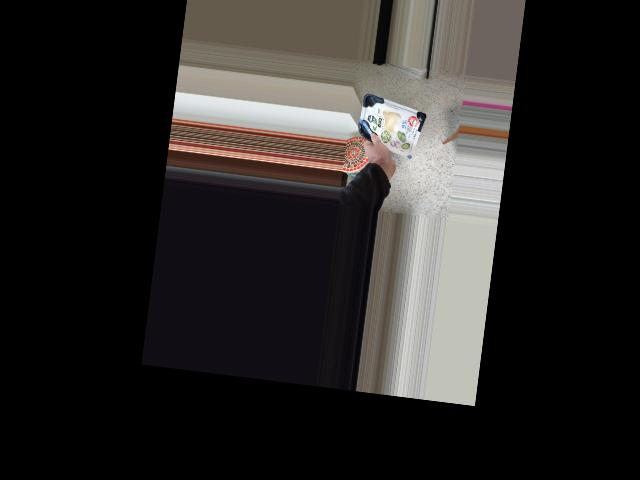cheese: (351, 97, 428, 154)
